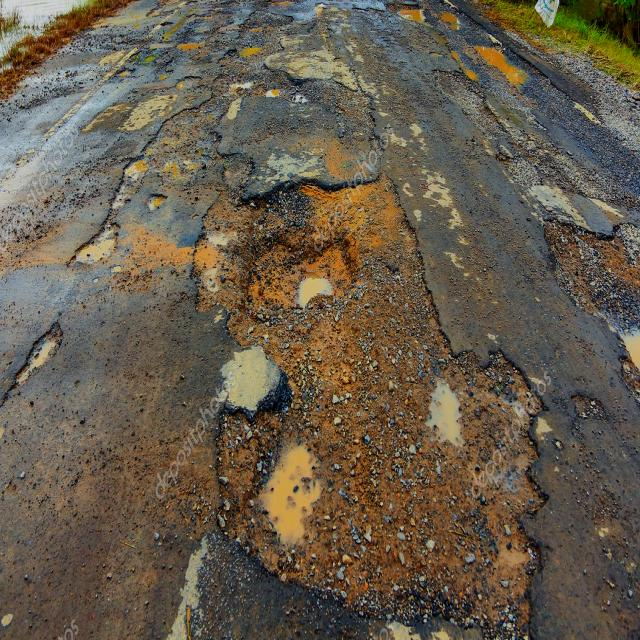Pothole: (62, 65, 640, 639)
